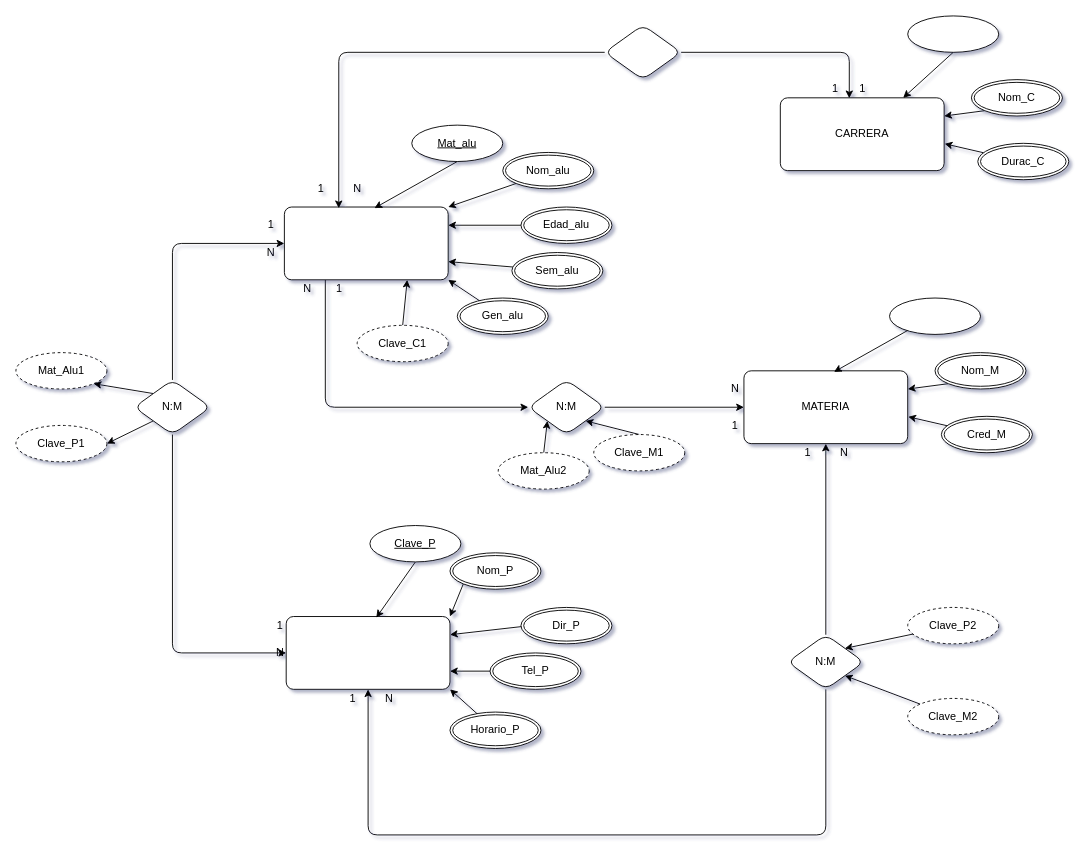
Some shapes in this 1090 by 864 pixel diagram are drawn without their labels. The shapes that lost their labels are listed below. From the top down, each one's box as (x1, y1, x2, y2) in pixels, then its label:
(604, 24, 681, 80): 1:N
(907, 15, 999, 52): Clave_C
(283, 206, 448, 280): ALUMNO
(889, 297, 981, 334): Clave_M
(285, 616, 450, 689): PROFESOR
